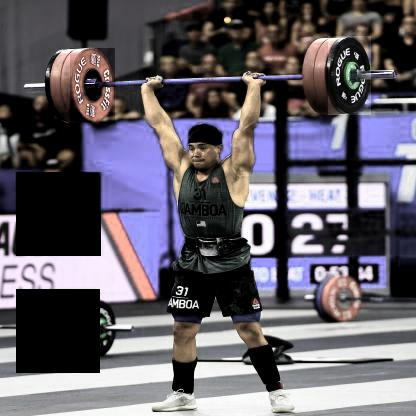barbell: (328, 36, 372, 115), (70, 49, 115, 124)
